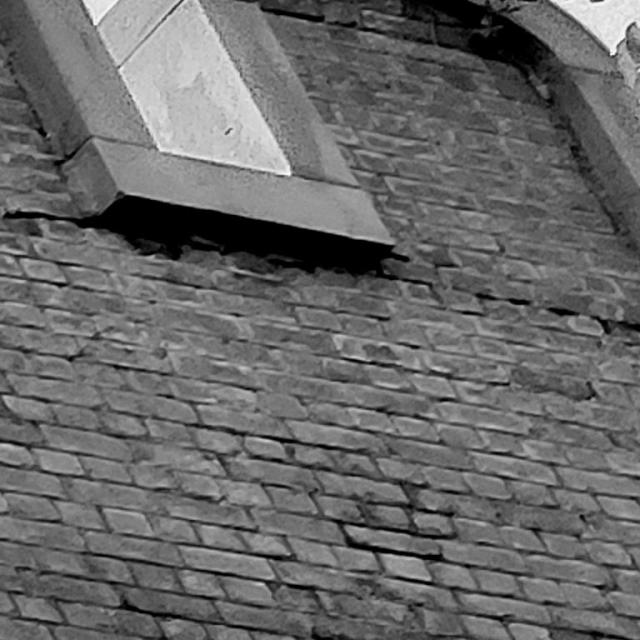crack: (1, 211, 640, 332), (257, 7, 535, 83), (568, 142, 618, 233)
